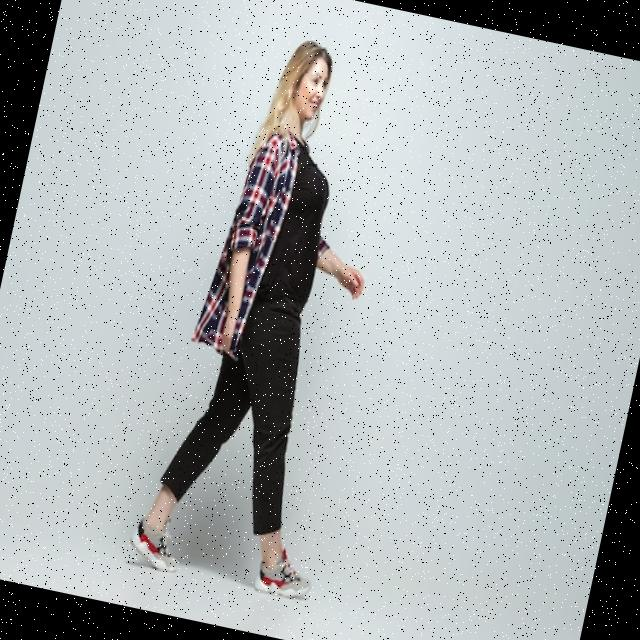Person: (125, 25, 422, 604)
